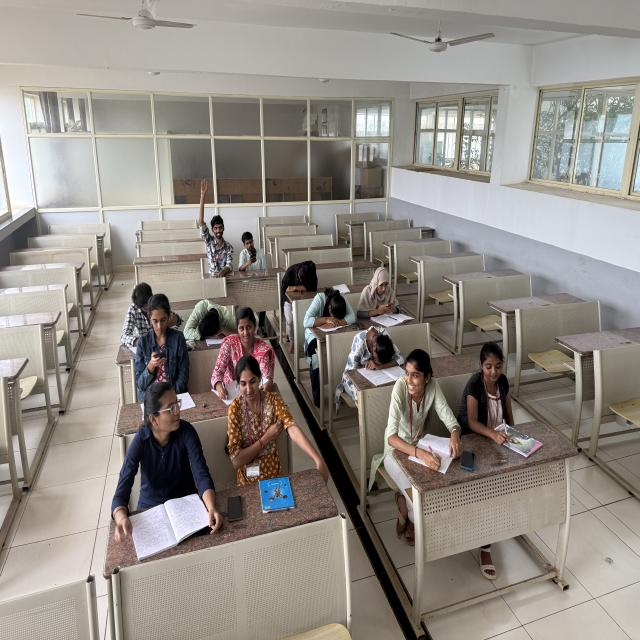Hand Rising: (192, 170, 236, 275)
Sleeping: (339, 316, 406, 396), (178, 286, 240, 358), (300, 280, 360, 347), (271, 251, 321, 306)
Using Phone: (128, 292, 196, 393), (357, 258, 412, 326), (236, 228, 275, 286)
Writing: (386, 345, 458, 474), (461, 339, 538, 459)
